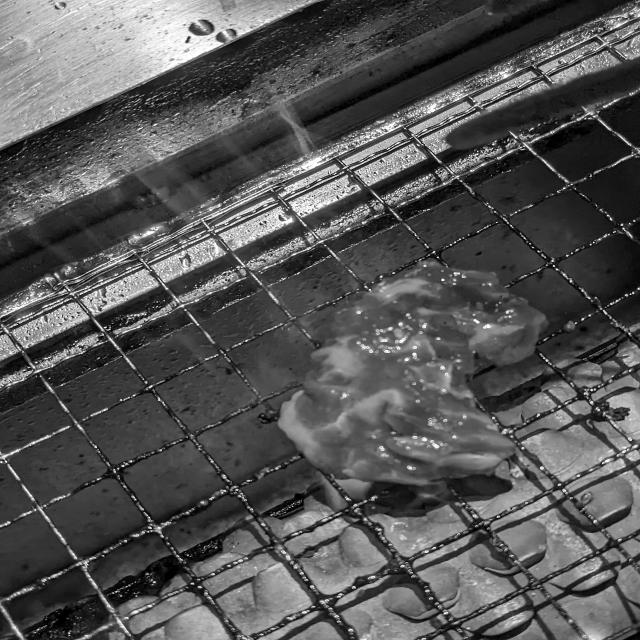NG raw beef,: (264, 255, 571, 503)
